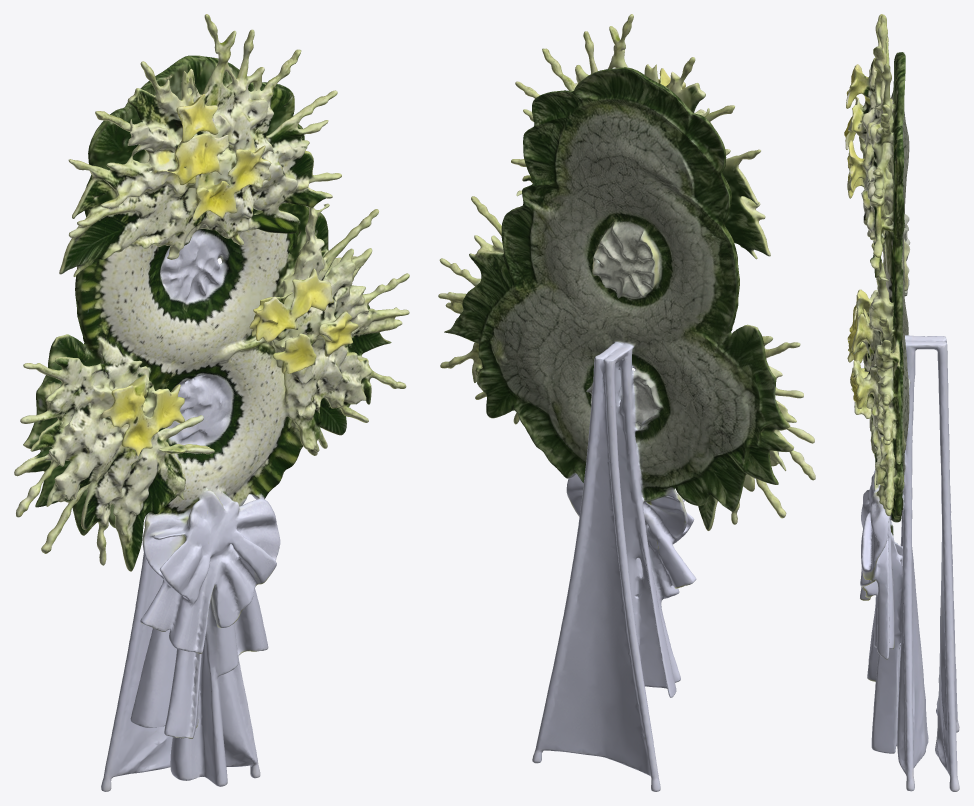
Rendered from Meshy_AI_Eternal_Peace_Wreath_1013162138_texture.fbx.
3 views of the same model, side by side, from view 1: azimuth 30°, elevation 25°; view 2: azimuth 150°, elevation 25°; view 3: azimuth 270°, elevation 25° (orthographic). The views are drawn at different scales.
Visible parts, largest first — view 1: Mesh_0; view 2: Mesh_0; view 3: Mesh_0.
Boxes of the visible parts, x1,y1,x2,y2 form: Mesh_0: (14, 14, 409, 791); Mesh_0: (438, 14, 815, 791); Mesh_0: (844, 14, 959, 791).
Size of the model in its own units: 100 by 190 by 26.55.
Materials: 1 (1 with a texture image).
